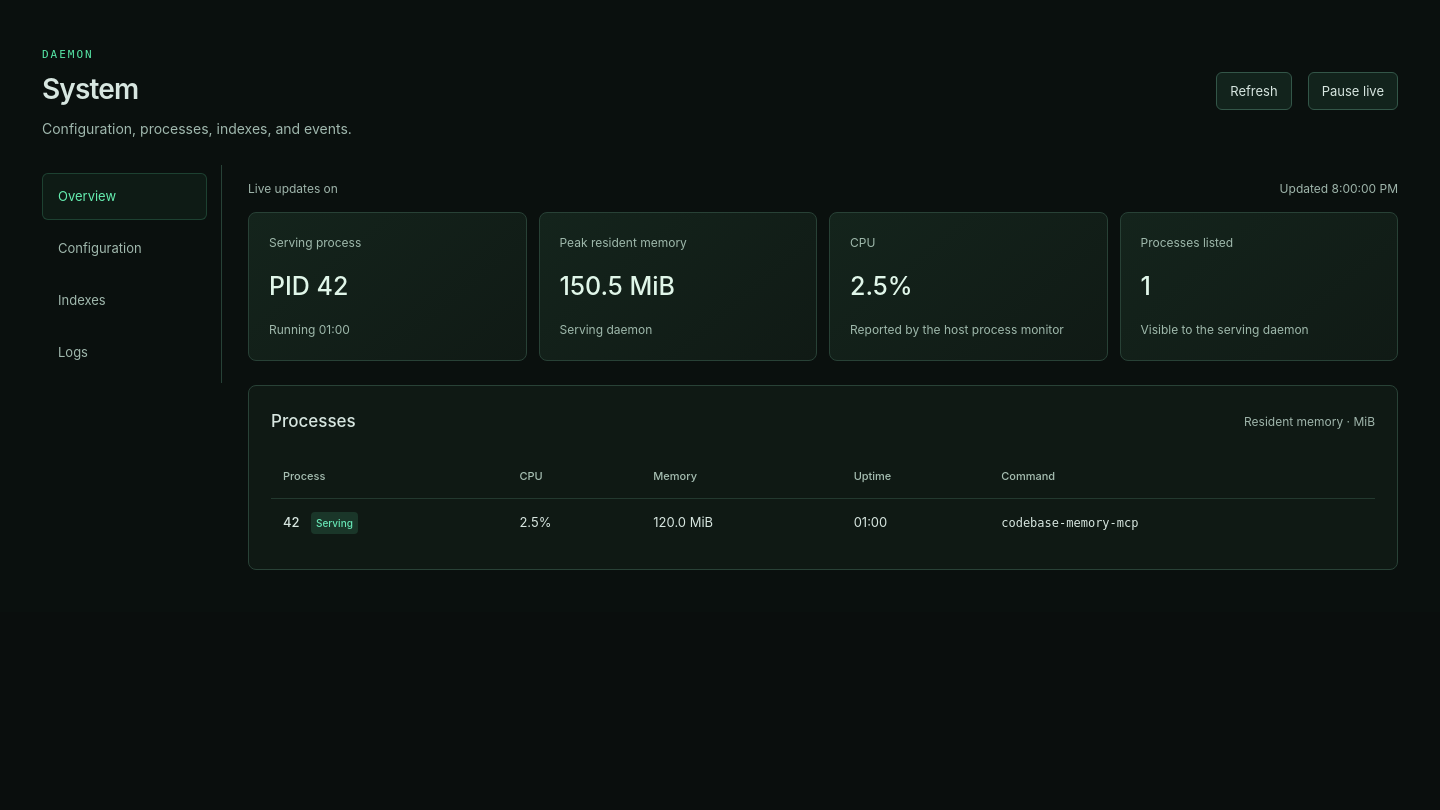
Test case: System workspace › passes scopes to the daemon and refuses ignored scope filters
Click the tab "Logs": coordinates (124, 352) [42,329,207,375]
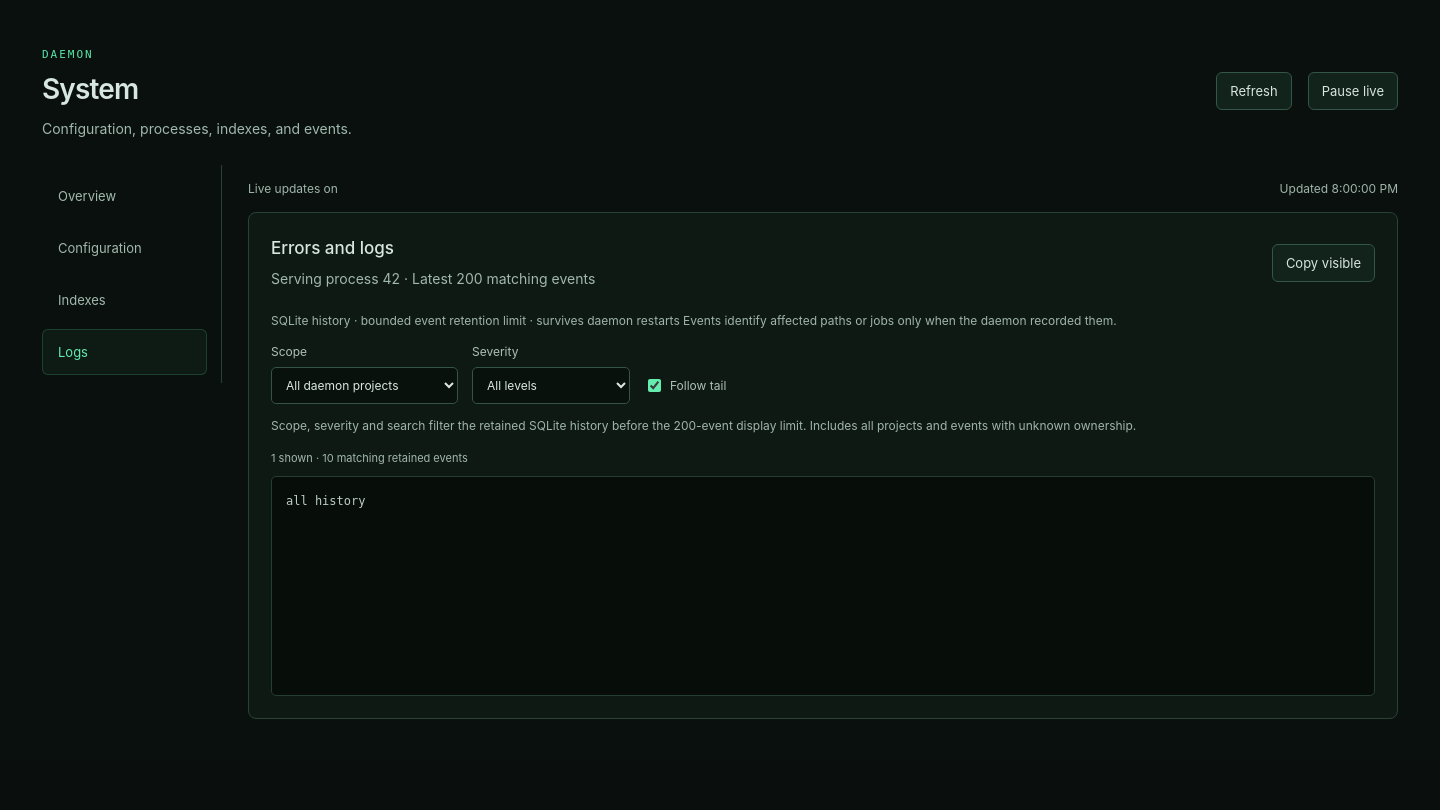
Select "Current project · fixture-a" in the dropdown named "Log scope": coordinates (364, 386) [271,367,458,404]
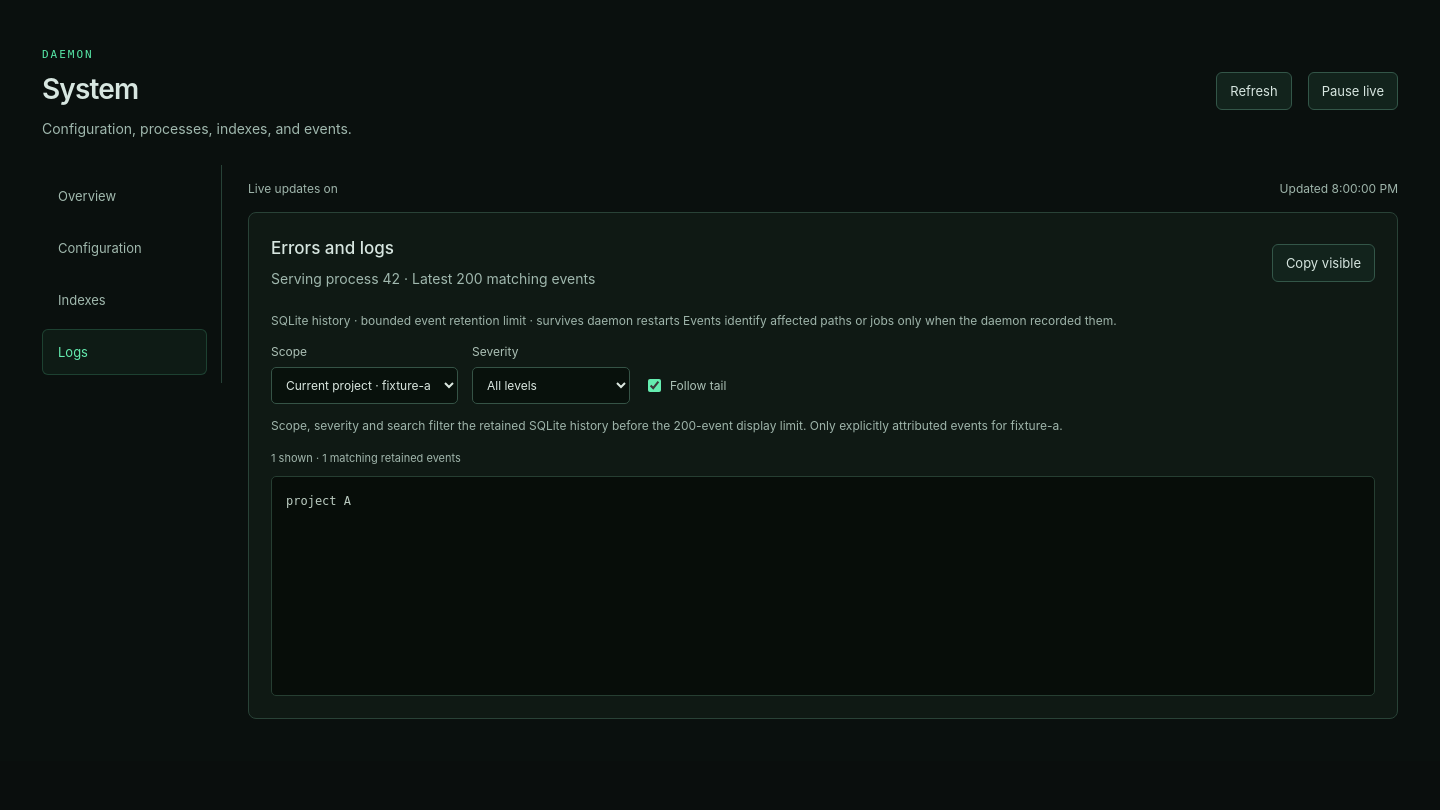
Check: the element with class "system-log" reads "project A", box [286,494,351,508]
Select "Unattributed events" in the dropdown named "Log scope": coordinates (364, 386) [271,367,458,404]
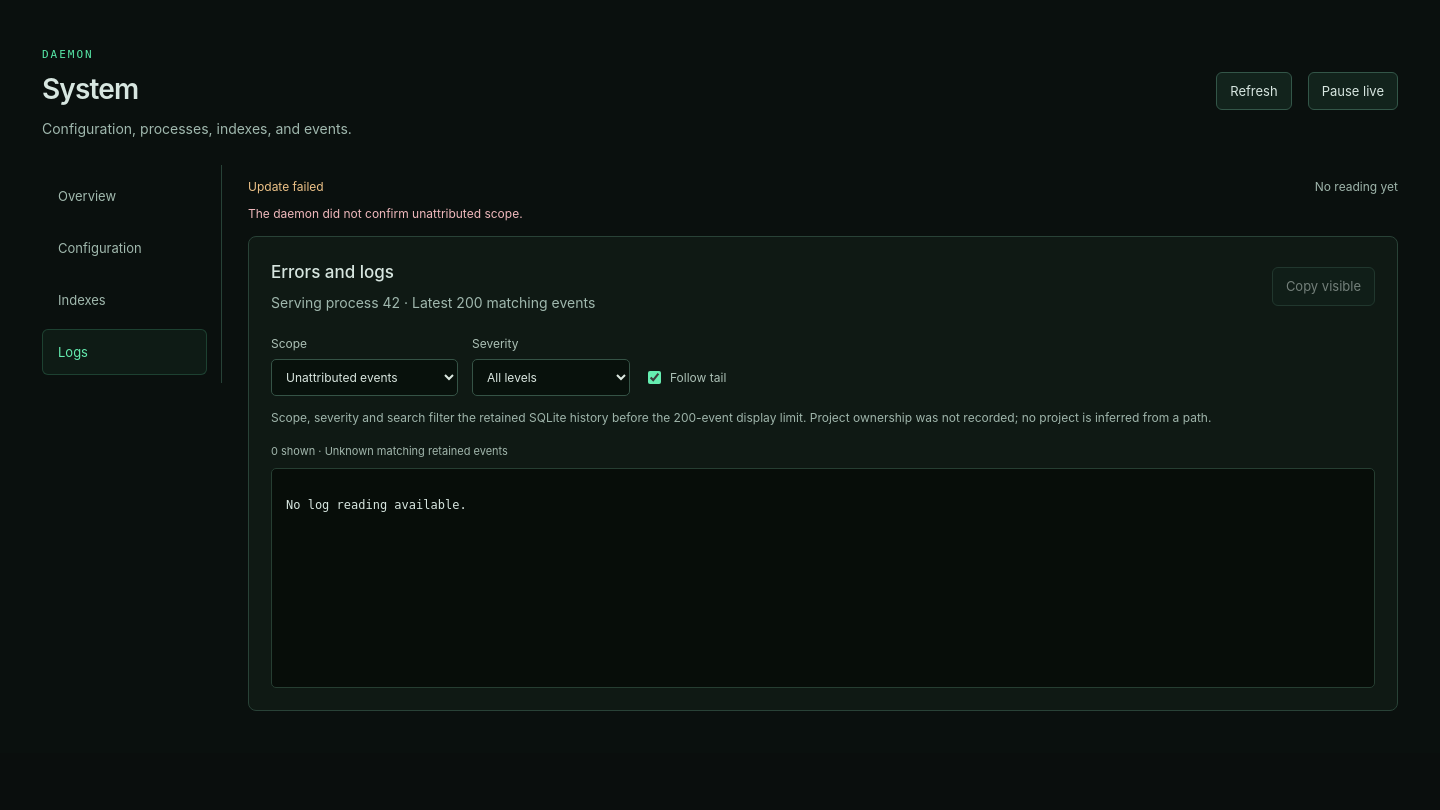
Check: the message "The daemon did not confirm unattributed scope." is shown, box [248,206,523,221]
Check: the text with class "system-log" no longer shows "project A"
